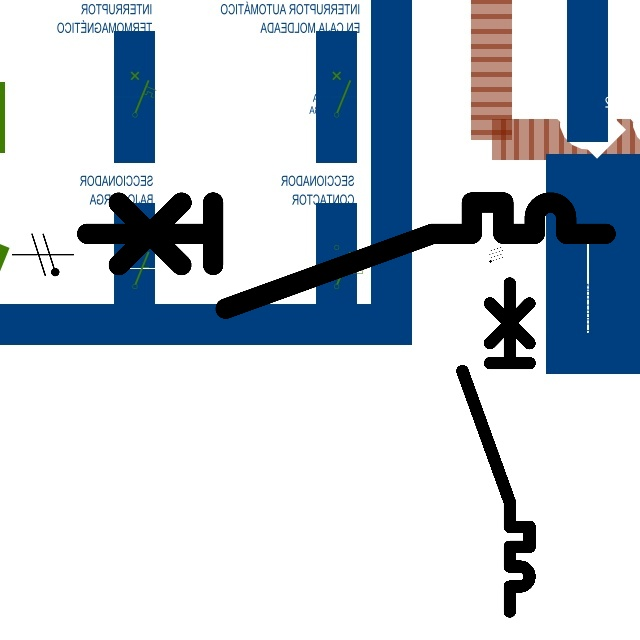interruptor_termomagnetico: (73, 189, 618, 322), (454, 275, 538, 620)
